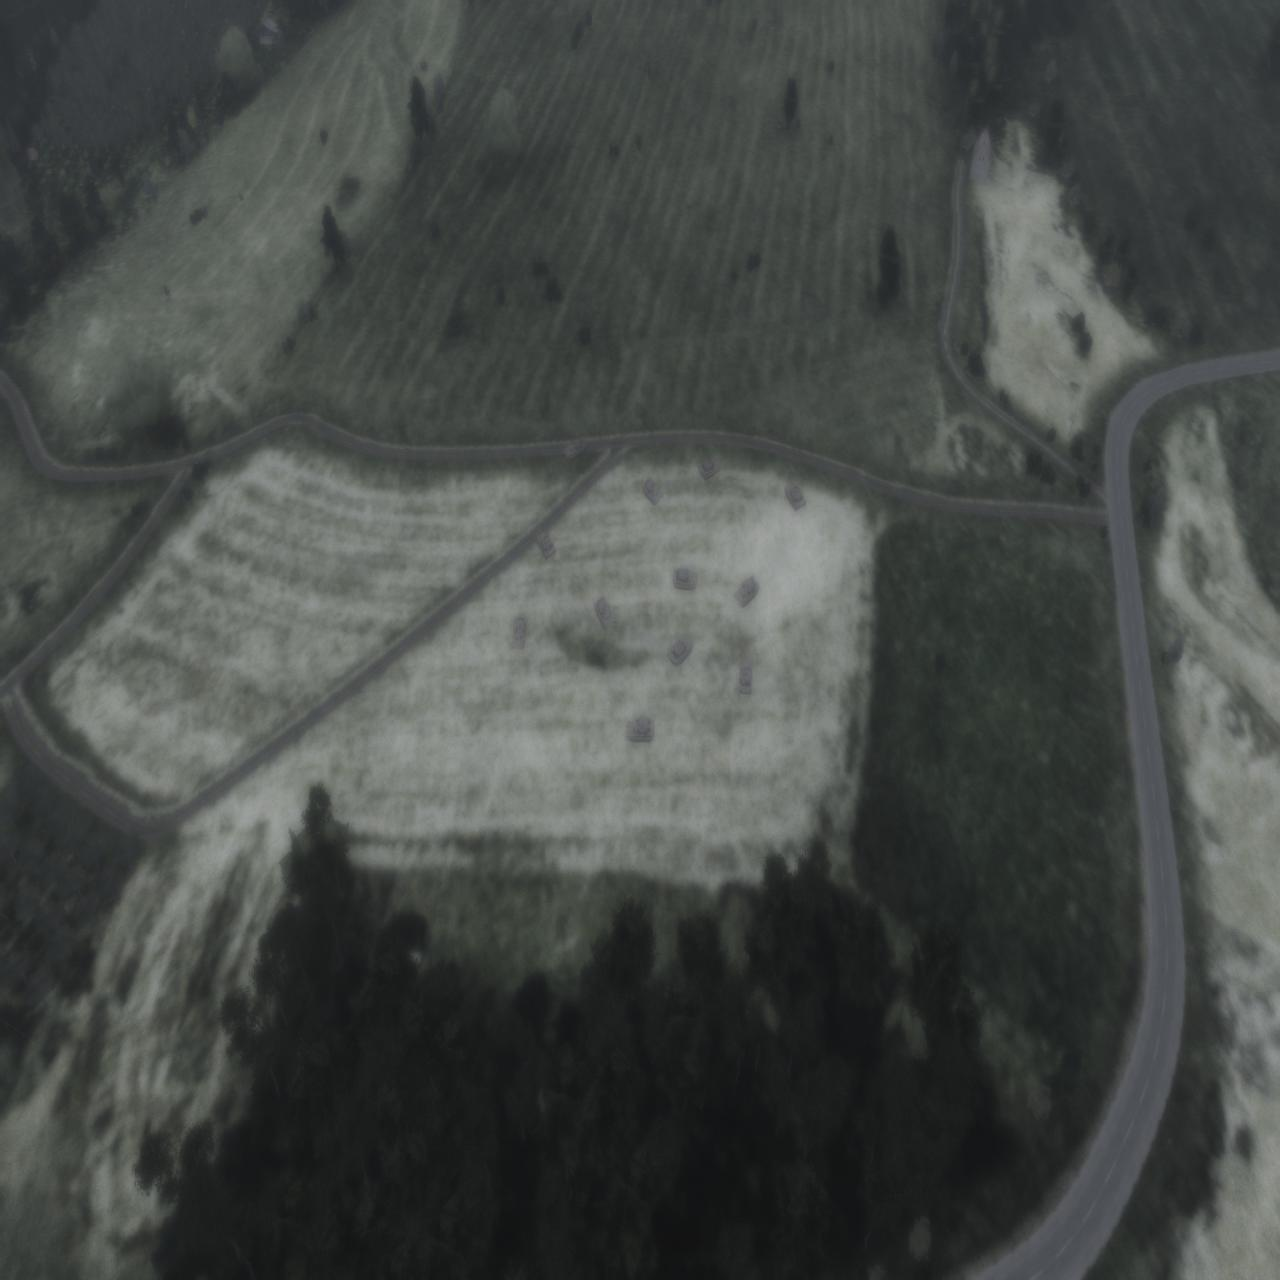MIL_Veh: (668, 635, 694, 669), (736, 573, 761, 608), (784, 482, 808, 515), (627, 715, 655, 742), (594, 595, 617, 629), (674, 567, 699, 594), (699, 456, 723, 483), (536, 531, 557, 561), (644, 477, 663, 508), (738, 661, 754, 695), (512, 613, 526, 649)
